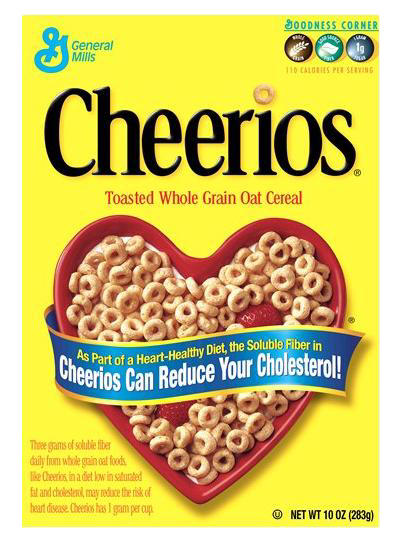grozi_4: (22, 14, 378, 527)
